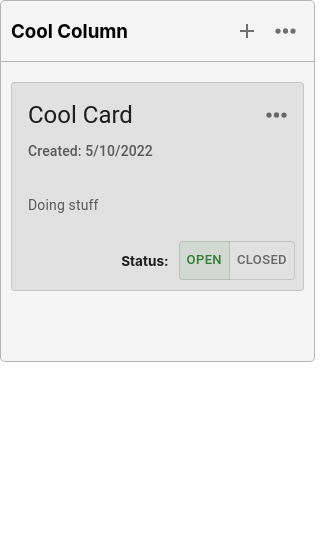
Scenario: Column › Renders add card display on click
The image size is (332, 546).
Click the button with test id "add-card": (247, 31) x1=227 y1=11 x2=267 y2=51
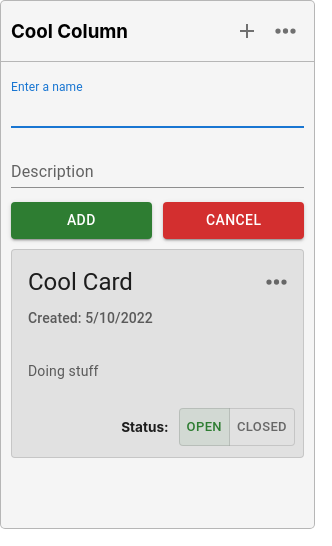
Now the field labelled "Enter a name" is shown, box x1=11 y1=96 x2=304 y2=128
Now the text box labelled "Description" is shown, box x1=11 y1=160 x2=304 y2=183
Now the button "Add" is shown, box x1=11 y1=202 x2=152 y2=238
